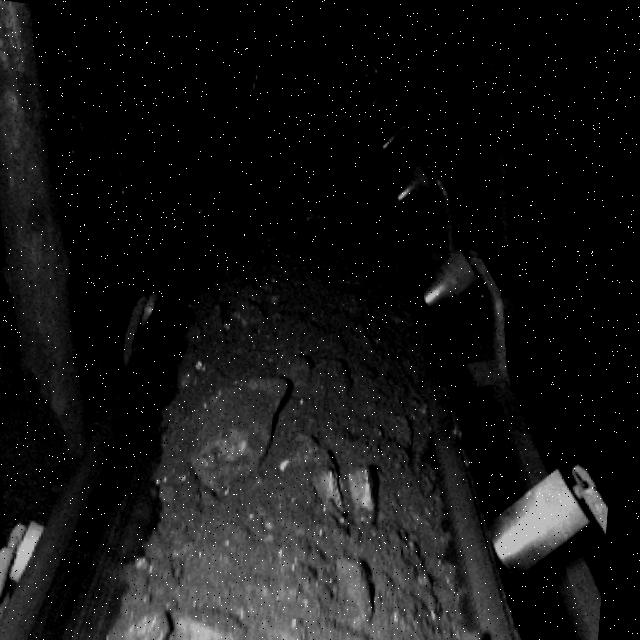large_sized_coal: (195, 367, 281, 474), (317, 451, 397, 515), (136, 599, 254, 640), (334, 547, 385, 622)
